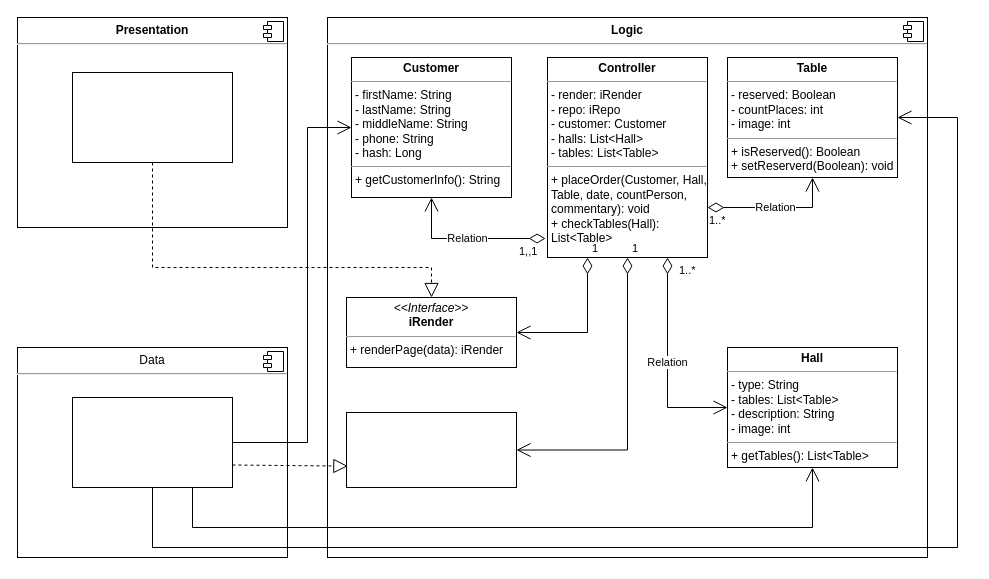
This 989x579 diagram has some shape labels left out. Here are the shapes that lost their labels. From the top down, the centre of each, then its label:
At point 152,117: "View + data: Data + renderPage(data): iRender".
At point 152,442: "Repo + request: Request + getData(request): iRepo".
At point 431,450: "<<Interface>> iRepo + getData(request): iRepo".
